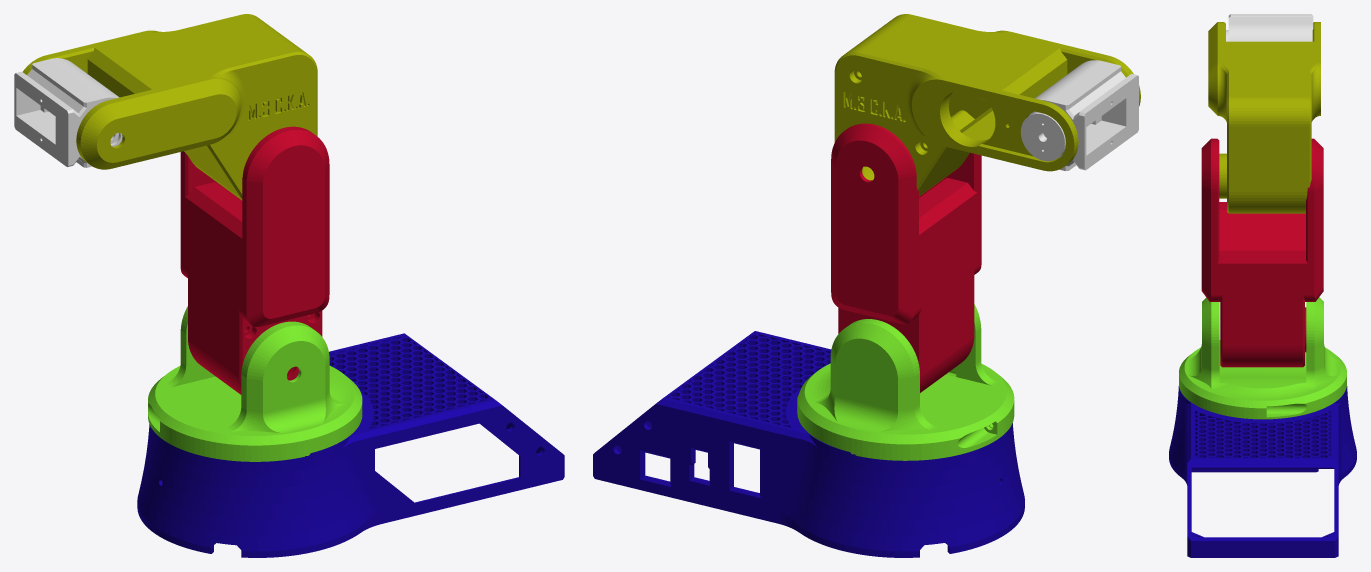
The model's file is robot-arm_digital-twin.glb.
3 views of the same model, side by side, from view 1: azimuth 30°, elevation 25°; view 2: azimuth 150°, elevation 25°; view 3: azimuth 270°, elevation 25° (orthographic). The views are drawn at different scales.
Parts seen in each view (by area): view 1: fixed_base, fore_arm, main_arm, rotating_base, wrist; view 2: fixed_base, main_arm, fore_arm, rotating_base, wrist; view 3: main_arm, fore_arm, fixed_base, rotating_base, wrist.
Boxes of the visible parts, x1,y1,x2,y2 form: fixed_base: (137, 333, 564, 557); fore_arm: (23, 14, 317, 200); main_arm: (180, 126, 329, 394); rotating_base: (148, 306, 362, 461); wrist: (14, 58, 122, 167); fixed_base: (593, 331, 1024, 557); main_arm: (831, 123, 981, 392); fore_arm: (834, 14, 1140, 196); rotating_base: (797, 304, 1014, 460); wrist: (1020, 60, 1138, 170); main_arm: (1201, 138, 1323, 367); fore_arm: (1208, 22, 1320, 213); fixed_base: (1169, 386, 1356, 557); rotating_base: (1179, 297, 1346, 419); wrist: (1226, 14, 1313, 41).
Size of the model in its own units: 0.2276 by 0.2152 by 0.1.
